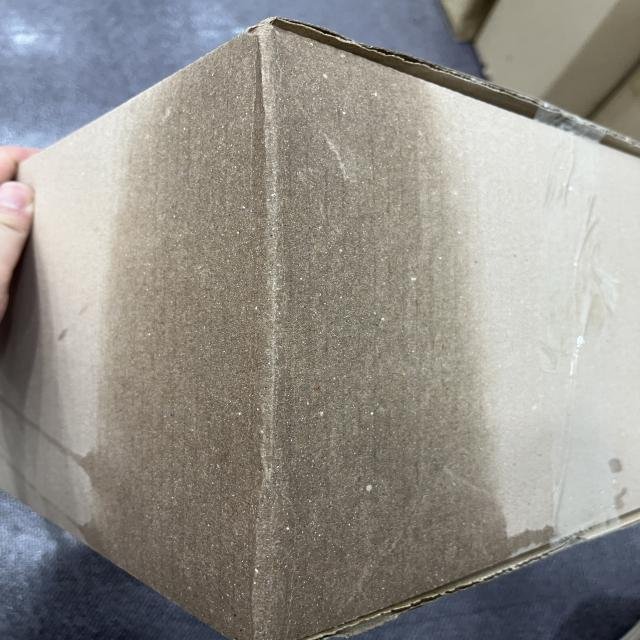wet: (81, 19, 504, 640)
